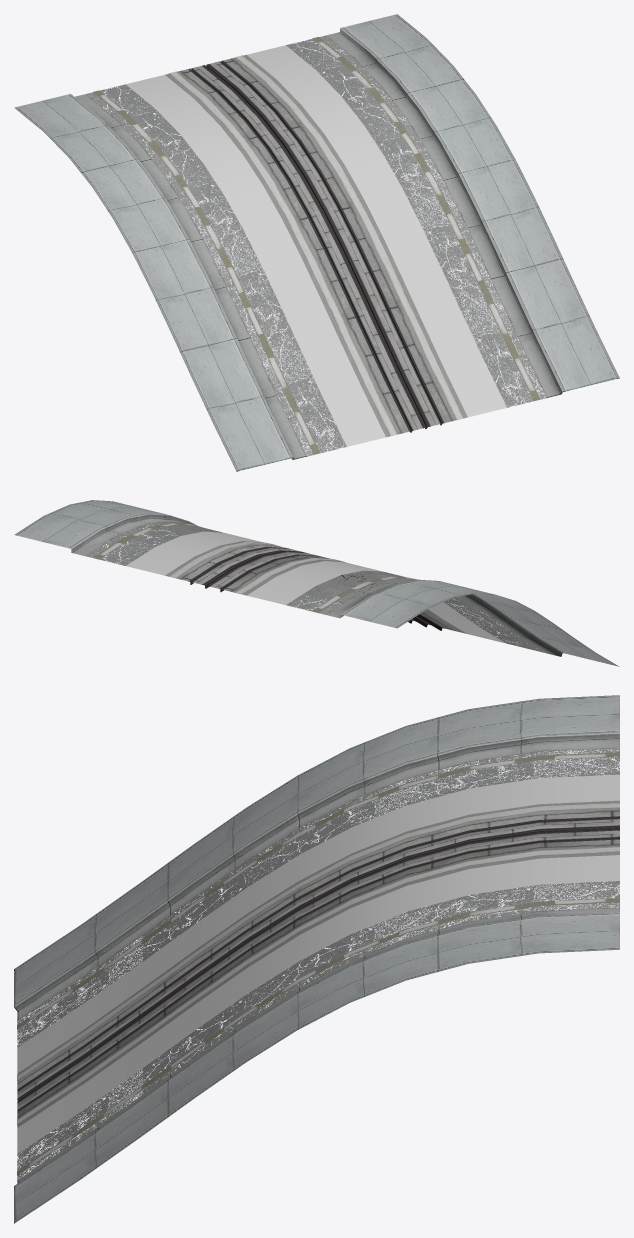
Rendered from RoadRail_Slope.obj.
3 views of the same model, one above another, from view 1: azimuth 30°, elevation 25°; view 2: azimuth 150°, elevation 25°; view 3: azimuth 270°, elevation 25° (orthographic). The views are drawn at different scales.
Visible parts, largest first — view 1: Road_Rail.007; view 2: Road_Rail.007; view 3: Road_Rail.007.
Part boxes in pixels (x1,y1,x2,y2): Road_Rail.007: (14,14,619,471); Road_Rail.007: (14,500,619,666); Road_Rail.007: (14,695,619,1223).
Size of the model in its own units: 20 by 10.31 by 20.11.
